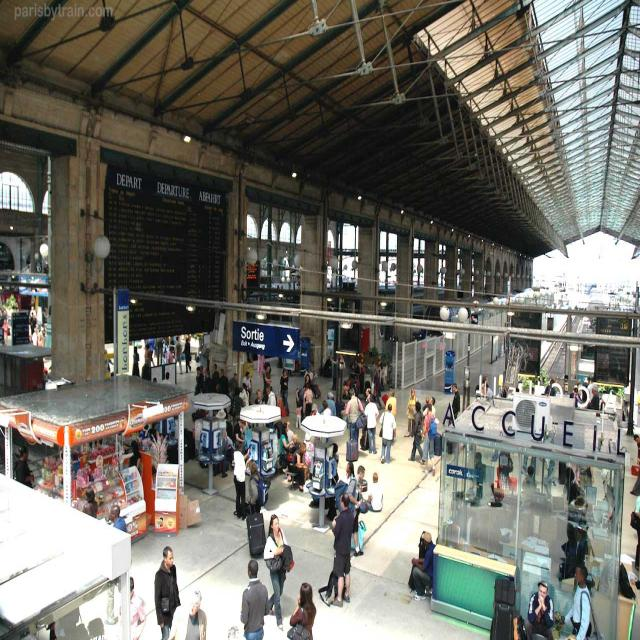body: (558, 463, 594, 585), (262, 513, 290, 632), (333, 463, 368, 558), (330, 492, 356, 606), (152, 544, 182, 639), (238, 558, 270, 640), (561, 562, 592, 640), (117, 575, 148, 639), (168, 589, 206, 640), (286, 580, 318, 639), (410, 530, 436, 602), (523, 580, 554, 640), (528, 564, 558, 619), (232, 439, 252, 521), (345, 387, 364, 456), (406, 400, 426, 464), (378, 403, 396, 466), (287, 442, 309, 493), (248, 459, 268, 514), (422, 402, 436, 478), (342, 357, 365, 400), (363, 393, 379, 454), (15, 445, 35, 490), (382, 386, 398, 441), (472, 450, 487, 508), (364, 471, 384, 514), (216, 409, 228, 479), (630, 495, 640, 571), (282, 433, 300, 474), (404, 387, 418, 438), (279, 422, 294, 468), (498, 449, 514, 492), (331, 352, 347, 393), (218, 367, 230, 420), (447, 383, 461, 426), (278, 367, 290, 417), (227, 372, 240, 418), (82, 486, 98, 520), (328, 441, 340, 486), (109, 504, 127, 533), (317, 390, 337, 416), (171, 336, 183, 377), (128, 439, 142, 474), (372, 368, 383, 410), (302, 383, 314, 418), (520, 465, 538, 488), (182, 336, 192, 374), (586, 384, 600, 411), (146, 420, 161, 445), (145, 336, 156, 370), (421, 396, 437, 419), (376, 358, 386, 393), (569, 384, 583, 408), (104, 348, 114, 381), (200, 367, 212, 394), (233, 420, 247, 443), (210, 363, 220, 395), (262, 363, 272, 394), (322, 353, 333, 380), (475, 375, 489, 396), (264, 384, 277, 406), (195, 366, 205, 394), (581, 376, 591, 404), (224, 414, 234, 442), (256, 352, 266, 379), (141, 358, 152, 382), (132, 344, 140, 377), (240, 382, 250, 408), (191, 407, 207, 423), (544, 378, 557, 397), (296, 384, 306, 408), (157, 336, 165, 366), (633, 433, 640, 466), (295, 402, 303, 429), (346, 461, 356, 482), (319, 399, 332, 415), (240, 370, 250, 390), (165, 334, 175, 354), (308, 494, 320, 510), (253, 388, 264, 405), (304, 364, 314, 382), (364, 387, 372, 408), (192, 412, 198, 439), (311, 402, 321, 416), (422, 396, 430, 412), (167, 345, 174, 363), (303, 373, 311, 388), (501, 384, 509, 398), (486, 383, 494, 396), (161, 372, 169, 384), (470, 315, 478, 323), (530, 386, 535, 396), (152, 377, 158, 384)
